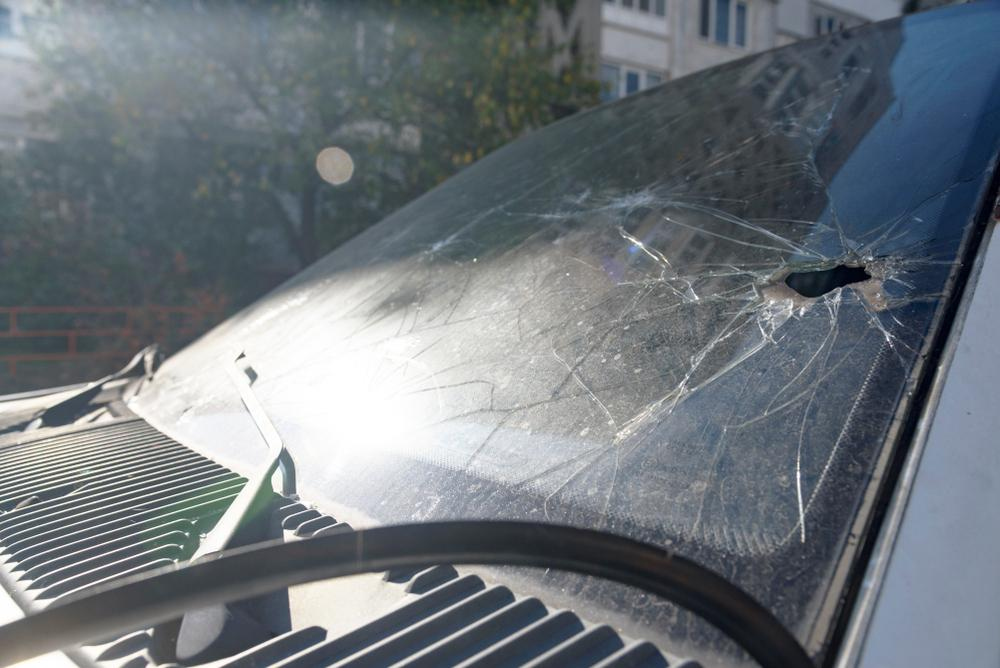glass shatter: (126, 0, 1000, 668)
